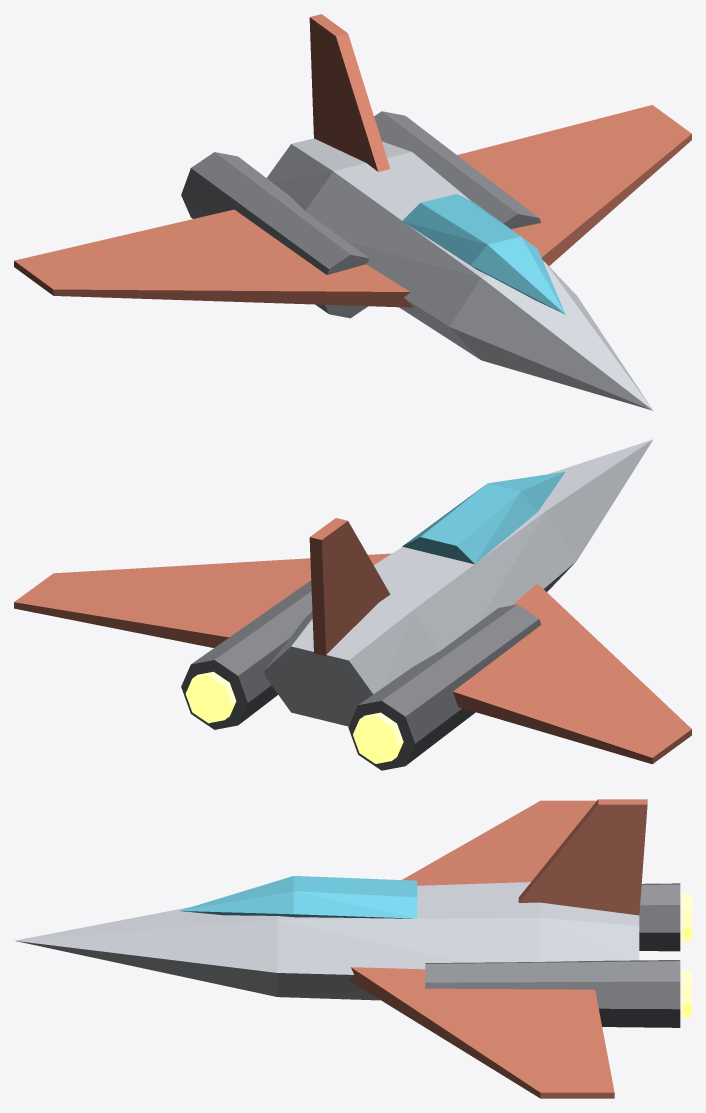
File: ship.glb
3 renders of one model, top to bottom at view 1: azimuth 30°, elevation 25°; view 2: azimuth 150°, elevation 25°; view 3: azimuth 270°, elevation 25°, orthographic. The views are drawn at different scales.
Parts seen in each view (by area): view 1: Ship; view 2: Ship; view 3: Ship.
Part boxes in pixels (box(x1,y1,x2,y2)): Ship: box(14, 14, 691, 410); Ship: box(14, 439, 691, 770); Ship: box(14, 799, 691, 1098).
Size of the model in its own units: 4.2 by 1.25 by 4.12.
